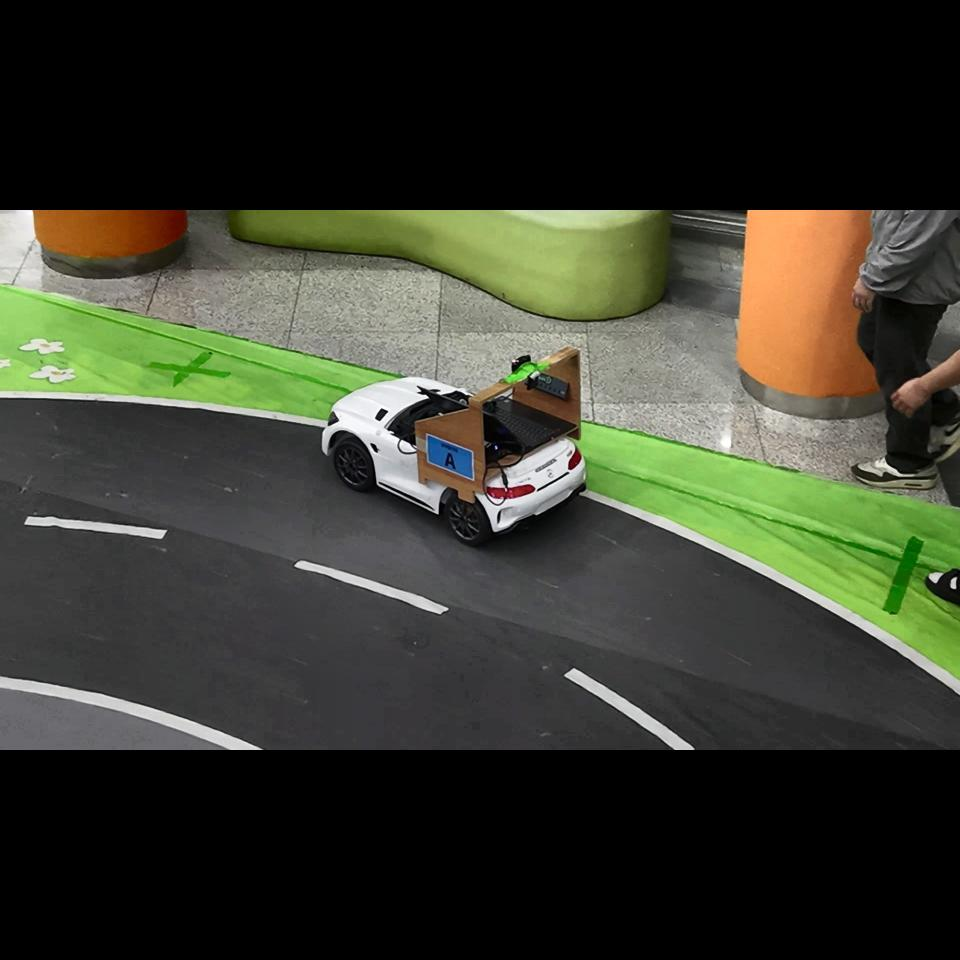broken_line: (563, 667, 695, 750), (294, 560, 449, 615), (24, 516, 168, 540)
